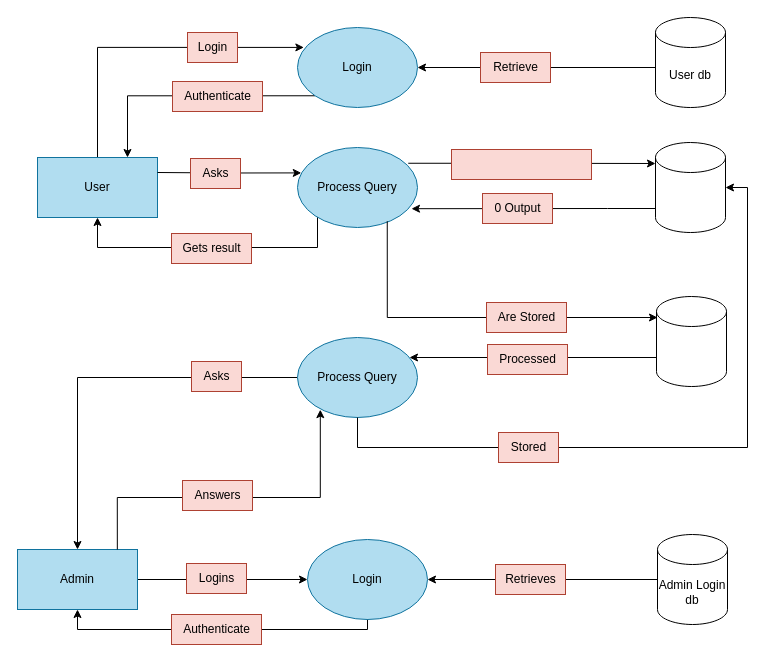
Some shapes in this 773 by 662 pixel diagram are drawn without their labels. The shapes that lost their labels are listed below. From the top down, each one's centre as x and y in pixels, then its label:
At point (521, 164): "Search Fetch Keyword".
At point (690, 187): "Query db".
At point (691, 341): "Not Resolved db".
